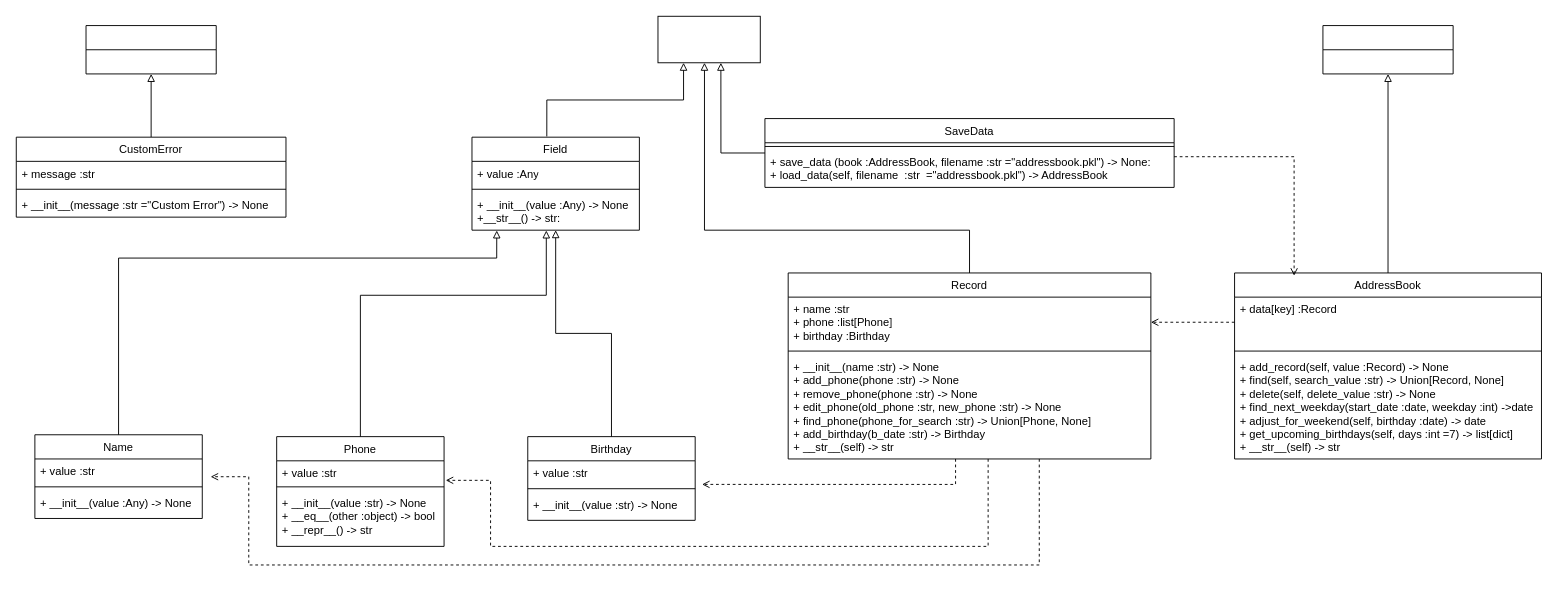
Image size: 1558x589. Some labels were removed from this diagram. Here are the shapes that lost their labels. From the top down, the centre of each, then its label:
the point at 150,49: Exception
the point at 708,39: Object
the point at 1387,49: UserDict
